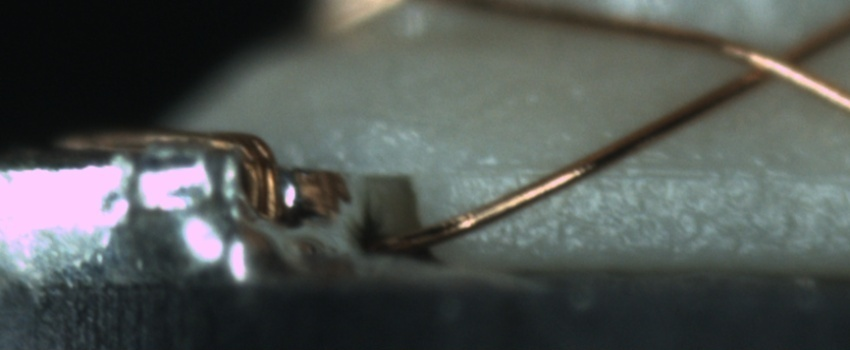CL: (725, 26, 831, 96)
DL: (451, 142, 849, 196)
TE: (54, 127, 285, 219)
